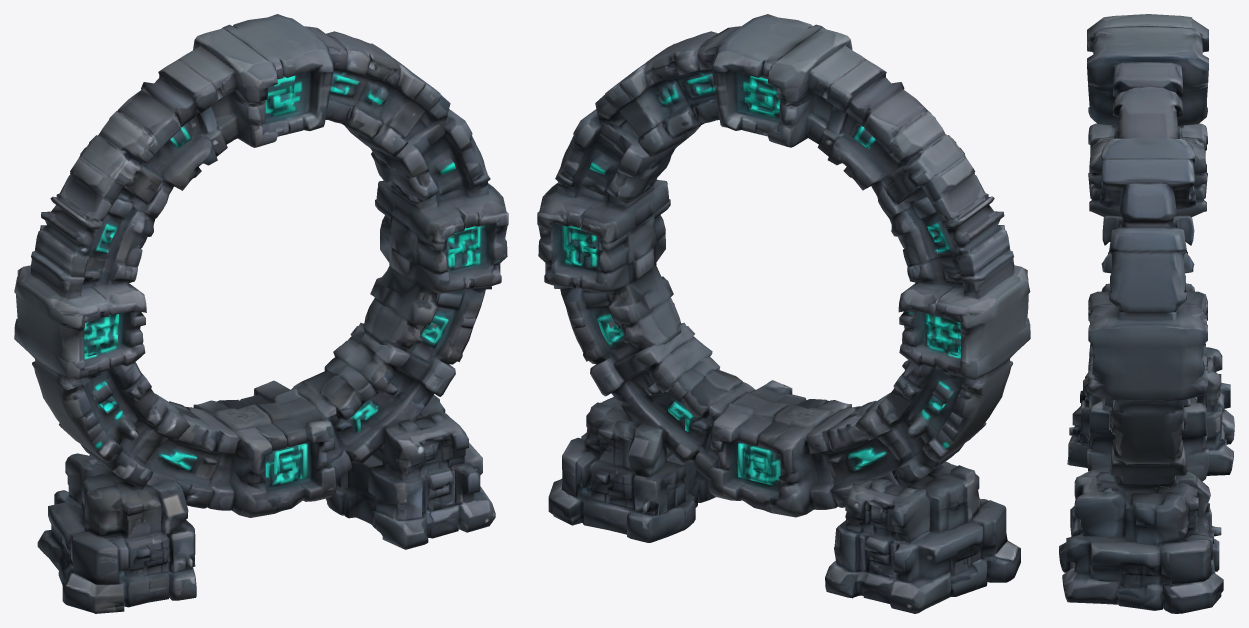
File: ExitPortal.fbx
3 renders of one model, left to right at view 1: azimuth 30°, elevation 25°; view 2: azimuth 150°, elevation 25°; view 3: azimuth 270°, elevation 25°, orthographic. The views are drawn at different scales.
Visible parts, largest first — view 1: tripo_node_89682810; view 2: tripo_node_89682810; view 3: tripo_node_89682810.
Boxes of the visible parts, x1,y1,x2,y2 form: tripo_node_89682810: [14, 14, 508, 613]; tripo_node_89682810: [537, 14, 1030, 613]; tripo_node_89682810: [1059, 14, 1234, 613].
Size of the model in its own units: 0.916 by 0.9772 by 0.3232.
